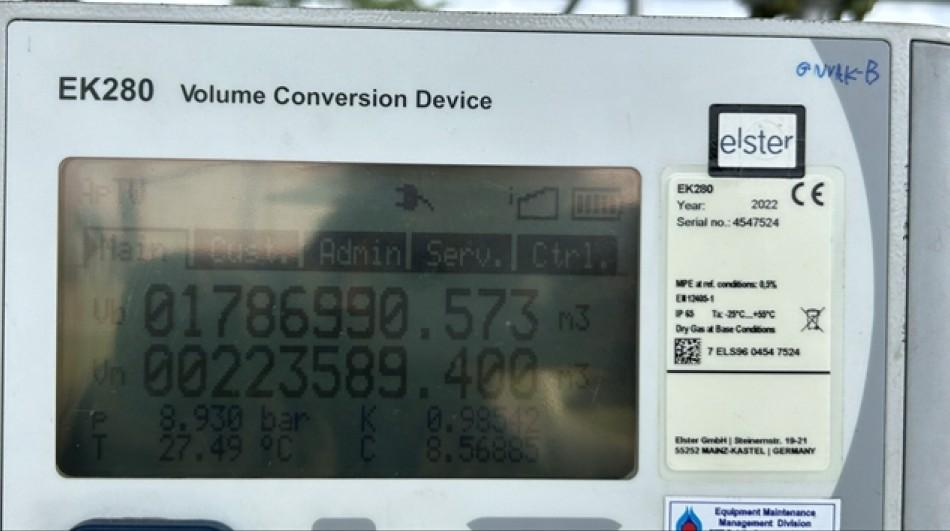digital_screen: (59, 160, 638, 479)
